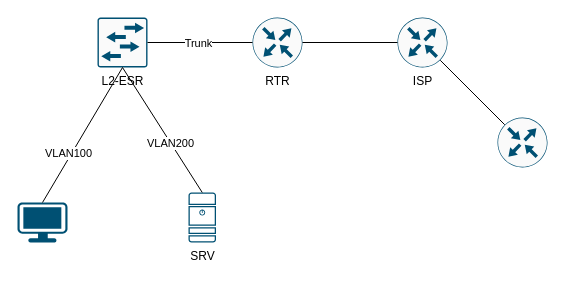
This 565x281 diagram has some shape labels left out. Here are the shapes that lost their labels. From the top down, the centre of each, then its label:
At point (522, 142): "Google".
At point (42, 222): "CLI".
